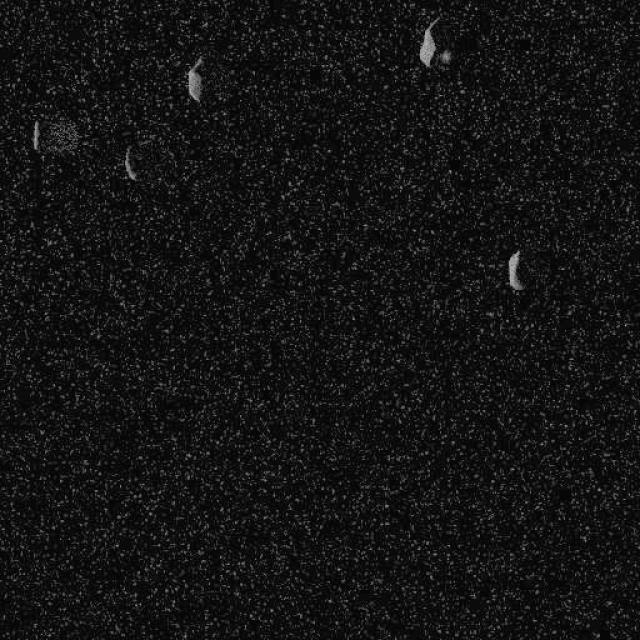D2: (30, 115, 80, 155), (418, 17, 440, 68), (185, 55, 205, 103), (506, 249, 525, 291), (122, 144, 138, 181), (30, 119, 40, 150)
